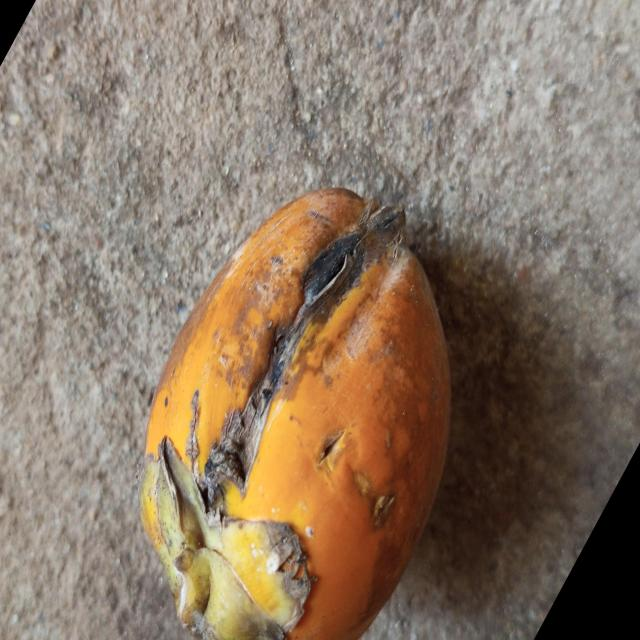damaged: (140, 188, 450, 640)
